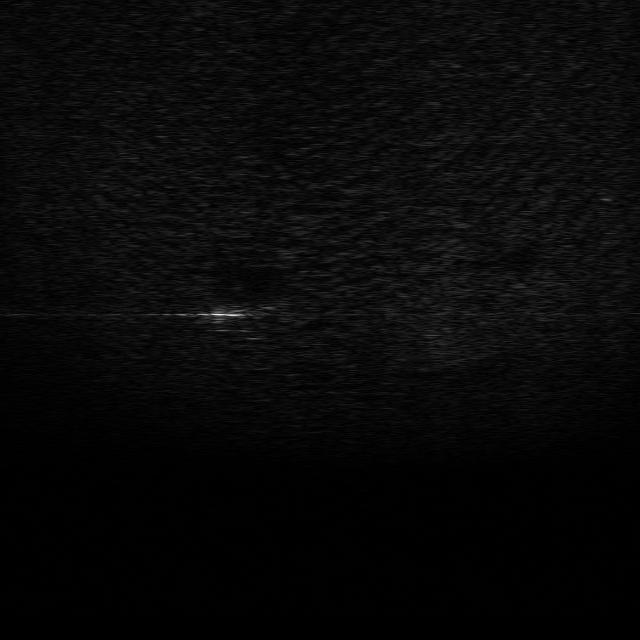plane: (206, 289, 286, 335)
